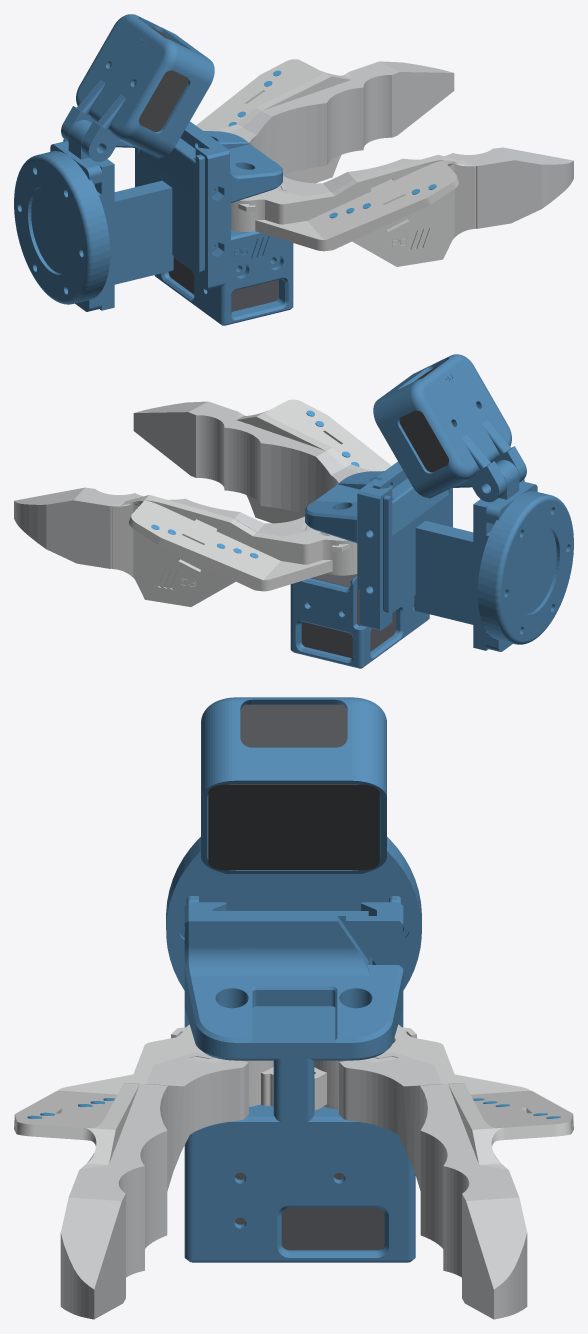
Rendered from chopstick_openarm.glb.
3 renders of one model, top to bottom at view 1: azimuth 30°, elevation 25°; view 2: azimuth 150°, elevation 25°; view 3: azimuth 270°, elevation 25°, orthographic. The views are drawn at different scales.
Parts seen in each view (by area): view 1: jaw_right, tip_tpu_left, chopstick_base_sa, d405_cup, d405_frame, openarm_adapter, tip_tpu_right, jaw_left_sa, d405_envelope, servo_envelope; view 2: jaw_left_sa, tip_tpu_right, d405_cup, d405_frame, openarm_adapter, chopstick_base_sa, tip_tpu_left, jaw_right, chopstick_clip_sa, servo_envelope, d405_envelope; view 3: chopstick_base_sa, tip_tpu_right, tip_tpu_left, d405_envelope, d405_cup, jaw_left_sa, jaw_right, openarm_adapter, d405_frame, servo_envelope, chopstick_clip_sa.
Part boxes in pixels (bbox=[...]): jaw_right: bbox=[231, 154, 476, 266]; tip_tpu_left: bbox=[228, 61, 454, 174]; chopstick_base_sa: bbox=[154, 121, 293, 325]; d405_cup: bbox=[61, 14, 214, 161]; d405_frame: bbox=[63, 120, 204, 310]; openarm_adapter: bbox=[14, 141, 110, 311]; tip_tpu_right: bbox=[277, 147, 573, 228]; jaw_left_sa: bbox=[196, 59, 351, 183]; d405_envelope: bbox=[109, 25, 188, 132]; servo_envelope: bbox=[168, 257, 278, 311]; jaw_left_sa: bbox=[111, 495, 357, 606]; tip_tpu_right: bbox=[133, 401, 359, 514]; d405_cup: bbox=[373, 354, 526, 502]; d405_frame: bbox=[383, 460, 524, 650]; openarm_adapter: bbox=[477, 481, 573, 651]; chopstick_base_sa: bbox=[290, 461, 429, 668]; tip_tpu_left: bbox=[14, 487, 310, 568]; jaw_right: bbox=[236, 399, 391, 523]; chopstick_clip_sa: bbox=[357, 479, 392, 630]; servo_envelope: bbox=[301, 573, 395, 658]; d405_envelope: bbox=[399, 366, 478, 472]; chopstick_base_sa: bbox=[184, 902, 415, 1262]; tip_tpu_right: bbox=[60, 1052, 248, 1319]; tip_tpu_left: bbox=[339, 1052, 527, 1319]; d405_envelope: bbox=[208, 704, 379, 870]; d405_cup: bbox=[201, 697, 386, 873]; jaw_left_sa: bbox=[314, 1024, 573, 1169]; jaw_right: bbox=[14, 1024, 273, 1169]; openarm_adapter: bbox=[166, 837, 421, 990]; d405_frame: bbox=[186, 874, 401, 964]; servo_envelope: bbox=[234, 1173, 384, 1250]; chopstick_clip_sa: bbox=[346, 902, 403, 1027].
Size of the model in its own units: 0.2165 by 0.1269 by 0.1357.
